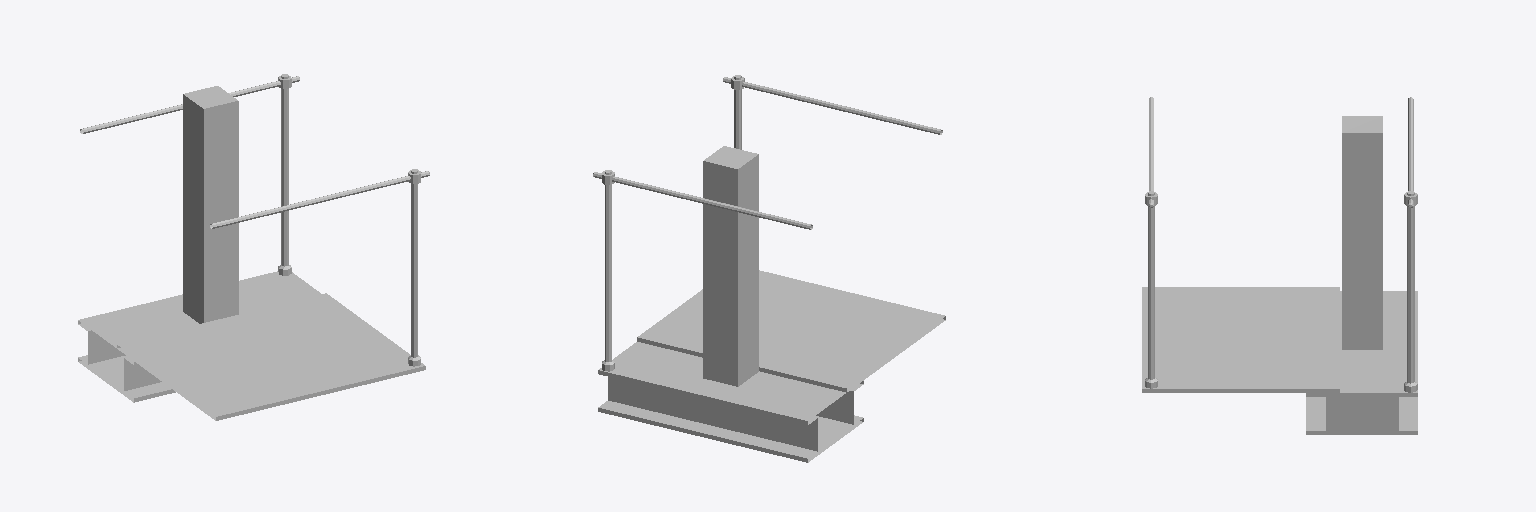
Rendered from lms_signal_gantry_platform_right_post.obj.
The picture shows the model from 3 angles: view 1: azimuth 30°, elevation 25°; view 2: azimuth 150°, elevation 25°; view 3: azimuth 270°, elevation 25°; orthographic projection.
Visible parts, largest first — view 1: Platform_Right_post_Cube.004; view 2: Platform_Right_post_Cube.004; view 3: Platform_Right_post_Cube.004.
Boxes of the visible parts, x1,y1,x2,y2 form: Platform_Right_post_Cube.004: [78, 74, 429, 420]; Platform_Right_post_Cube.004: [593, 75, 945, 462]; Platform_Right_post_Cube.004: [1142, 97, 1417, 434].
Bounding box in the file's own units: 1.04 × 1.18 × 1.14.